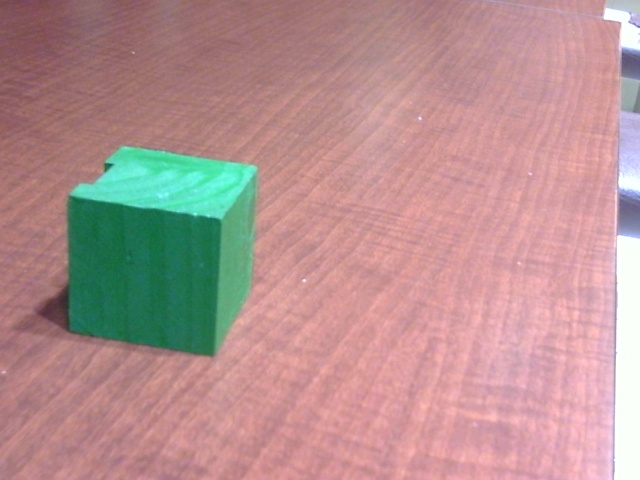GreenBlock: (68, 192, 223, 355)
